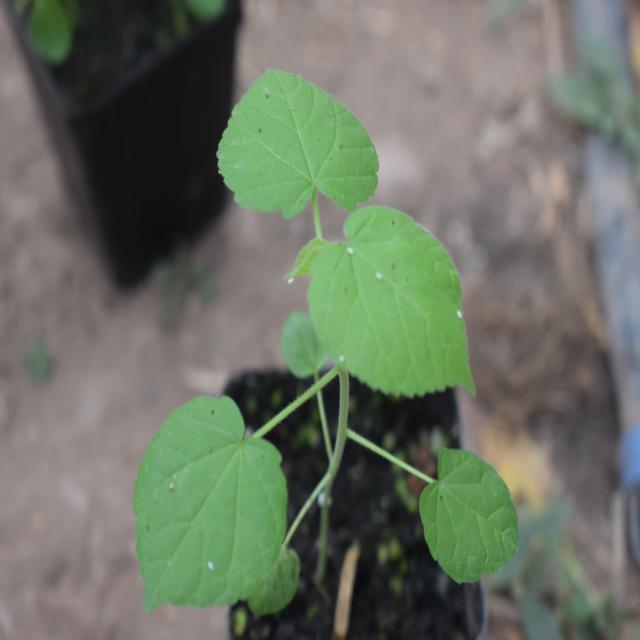abutilon theophrasti: (136, 66, 546, 585)
